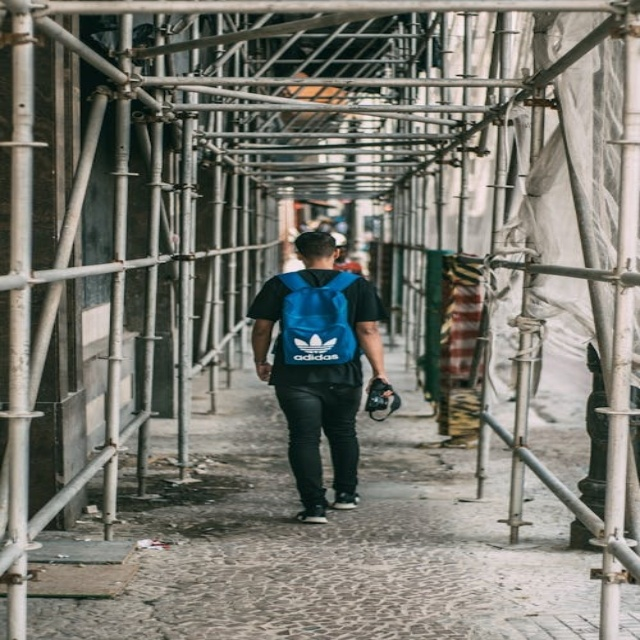Sin_guantes: (364, 372, 397, 397), (246, 357, 274, 384)
